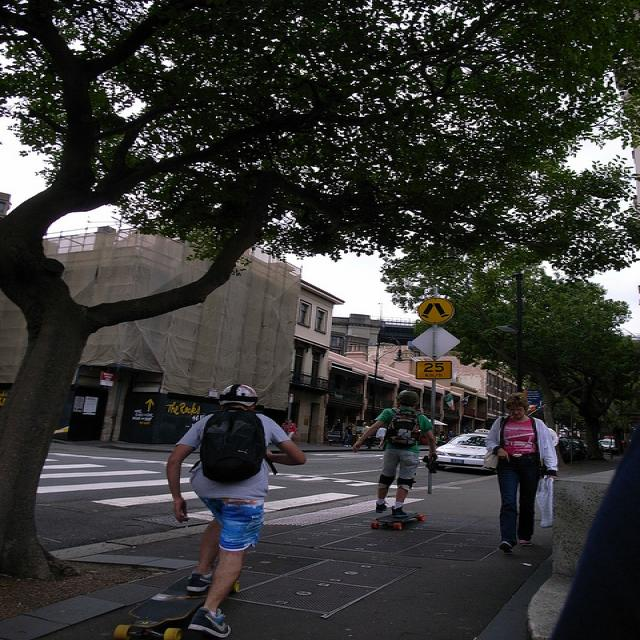Vehicle: (436, 429, 496, 471), (566, 441, 587, 460), (598, 438, 619, 453)
